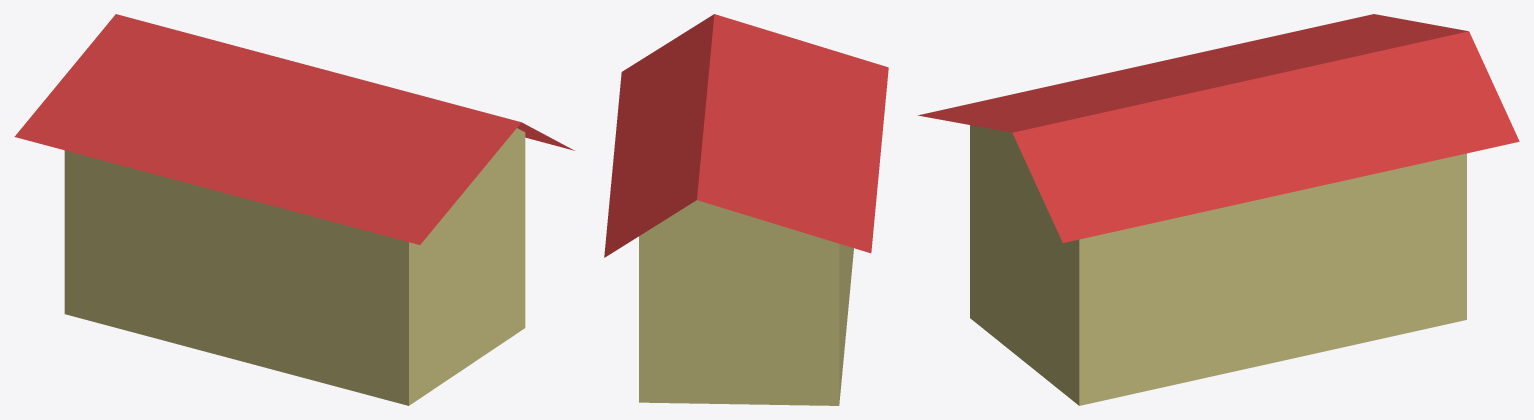
3 views of the same model, side by side, from view 1: azimuth 30°, elevation 25°; view 2: azimuth 150°, elevation 25°; view 3: azimuth 270°, elevation 25° (orthographic). The views are drawn at different scales.
Size of the model in its own units: 13.23 by 15.41 by 7.19.
